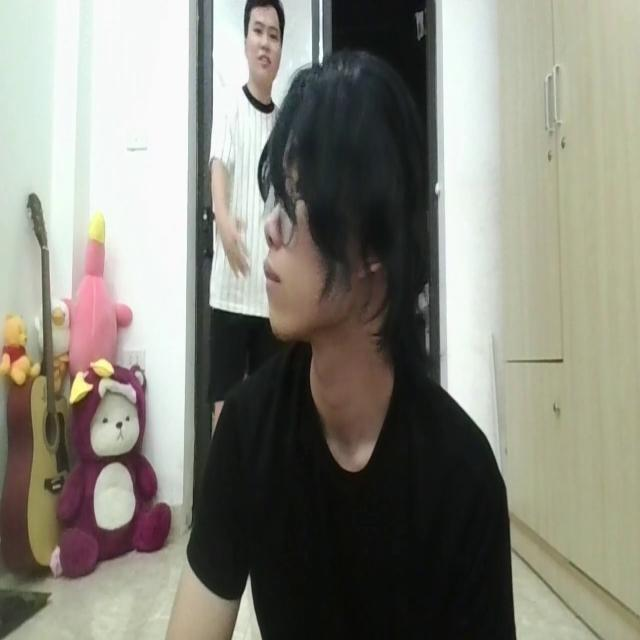extra_person: (211, 0, 280, 369)
student: (167, 44, 516, 640)
